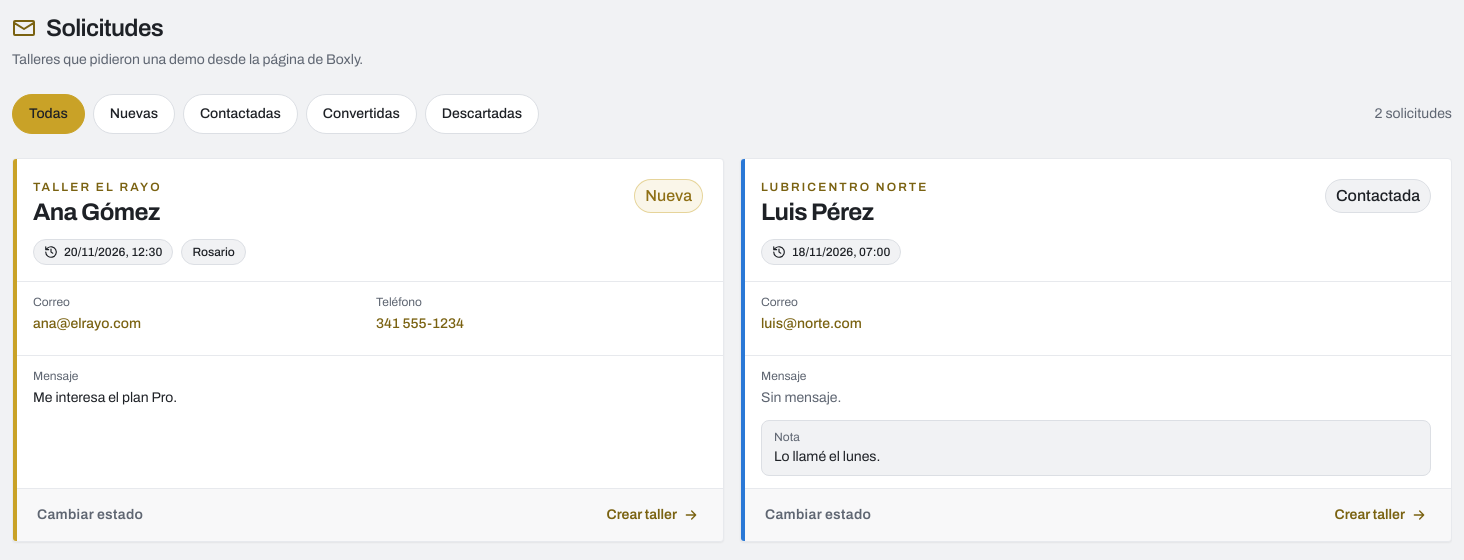
Test: PlataformaSolicitudes › filtra por estado con los chips
Expected: the heading "Ana Gómez" is shown, [33, 197, 162, 227]
Click the button "Contactadas": (240, 114) [183, 94, 298, 134]
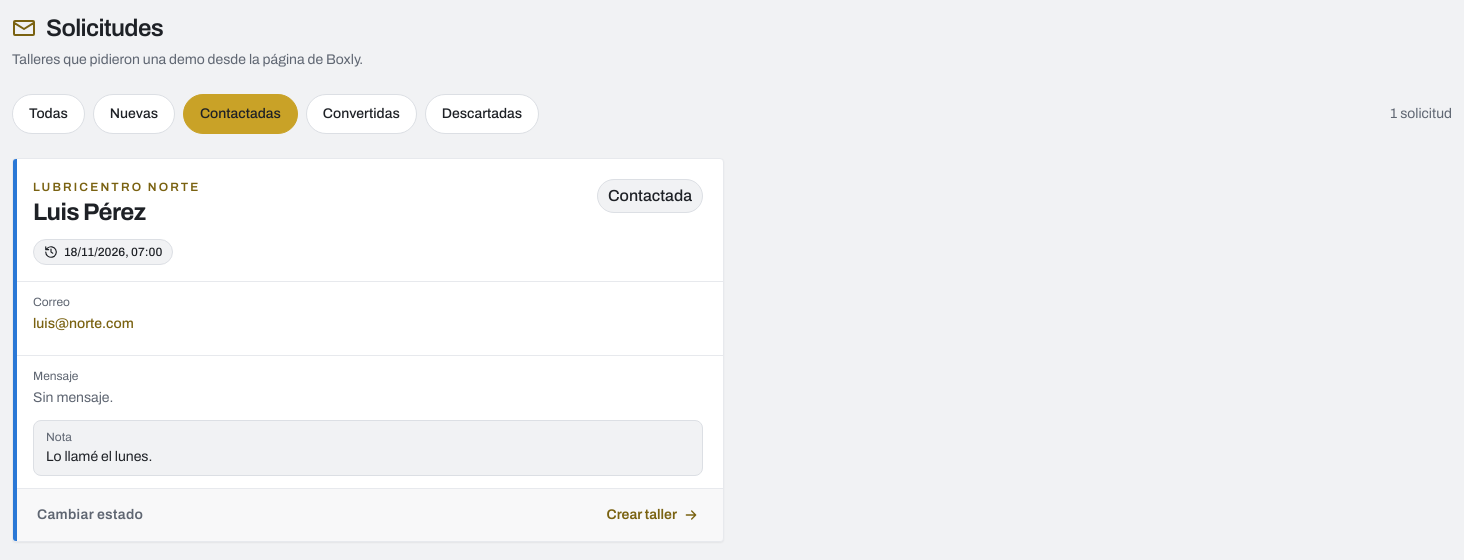
Expected: the heading "Ana Gómez" is gone
Expected: the text "1 solicitud" is shown, [1390, 104, 1452, 124]
